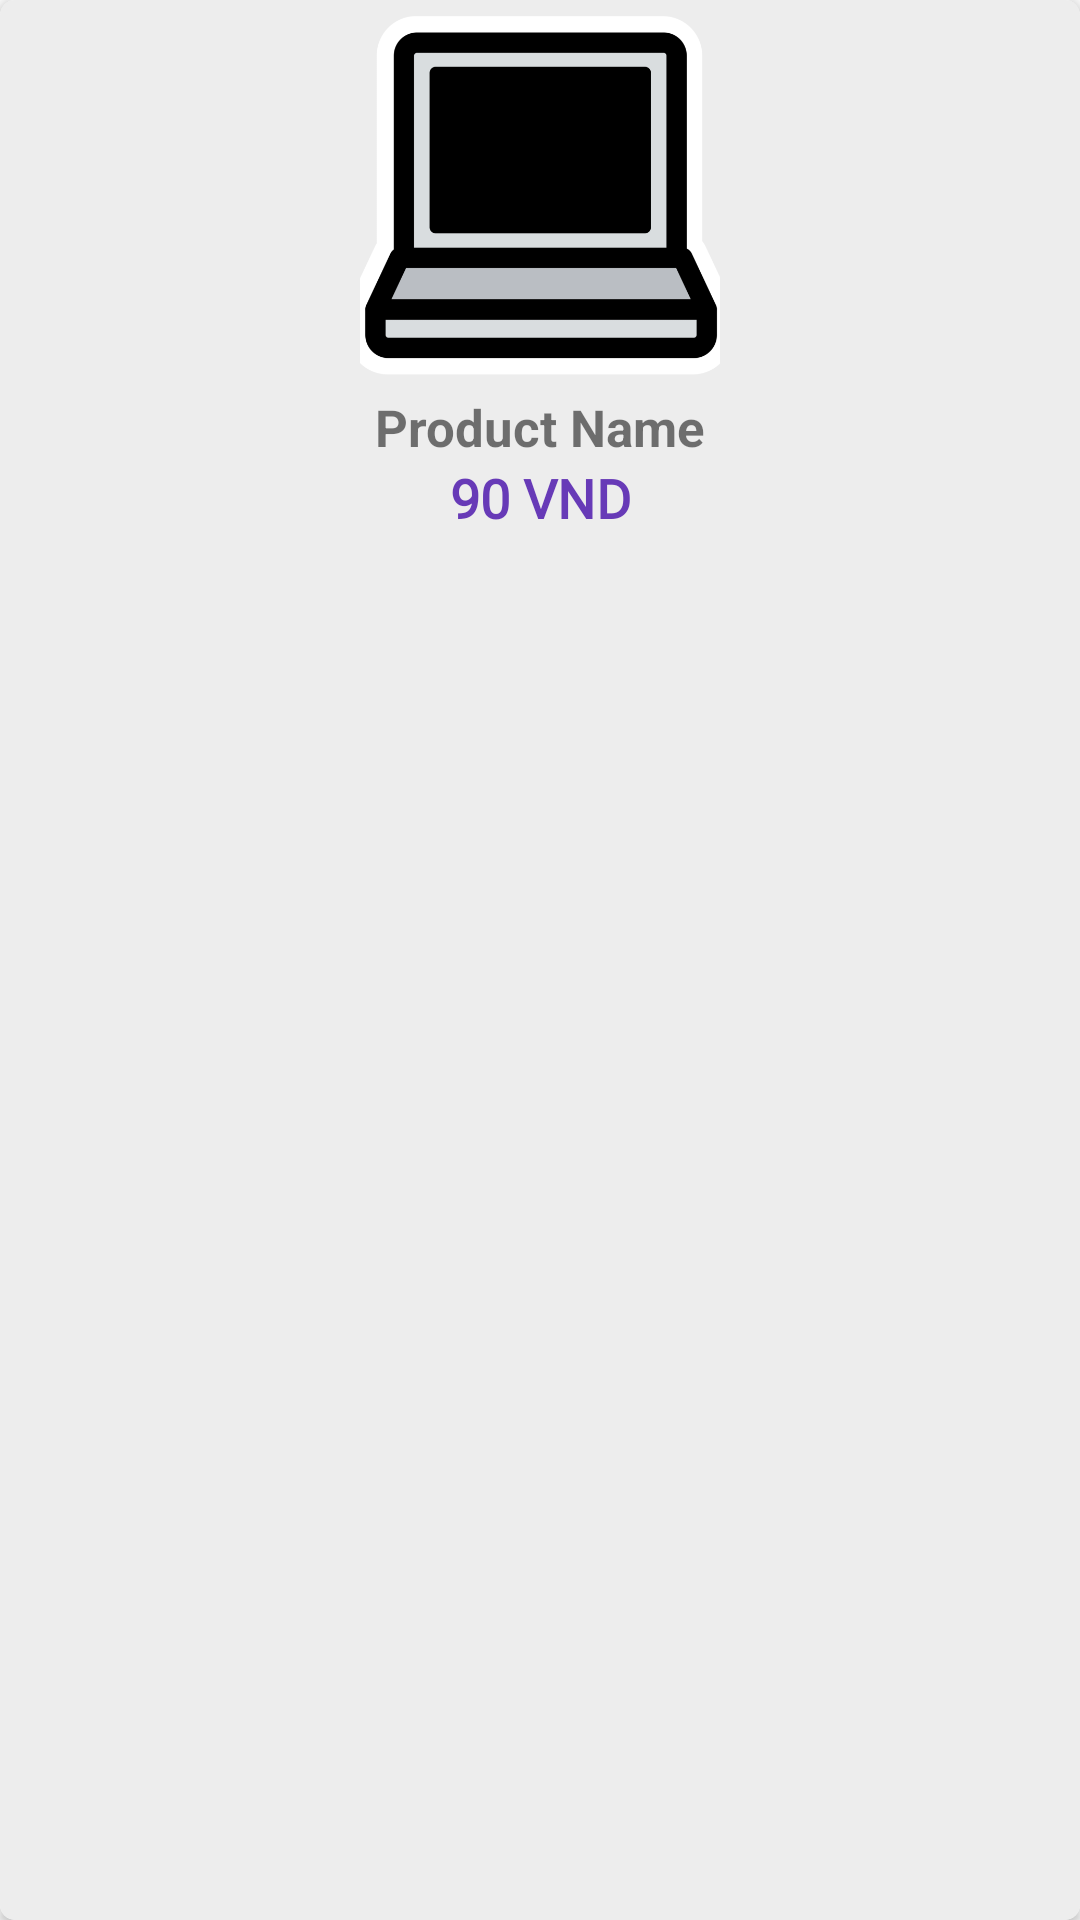

Icon click points for this 1080x1920 phone screenshot, format [x,y]:
laptop: [541,195]
